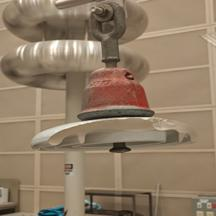insulator: (29, 63, 203, 169)
